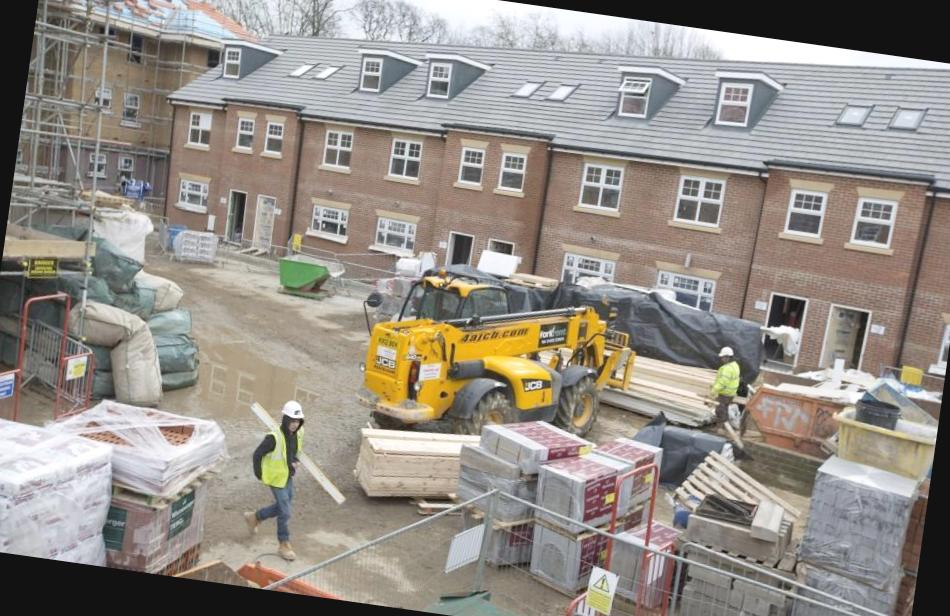helmet: (274, 394, 318, 430), (712, 336, 737, 364)
person: (233, 387, 325, 566), (701, 338, 753, 438)
